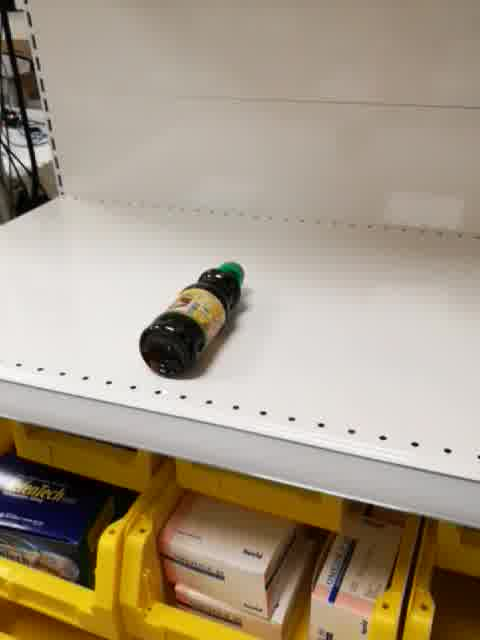cookingoil: (136, 261, 246, 381)
